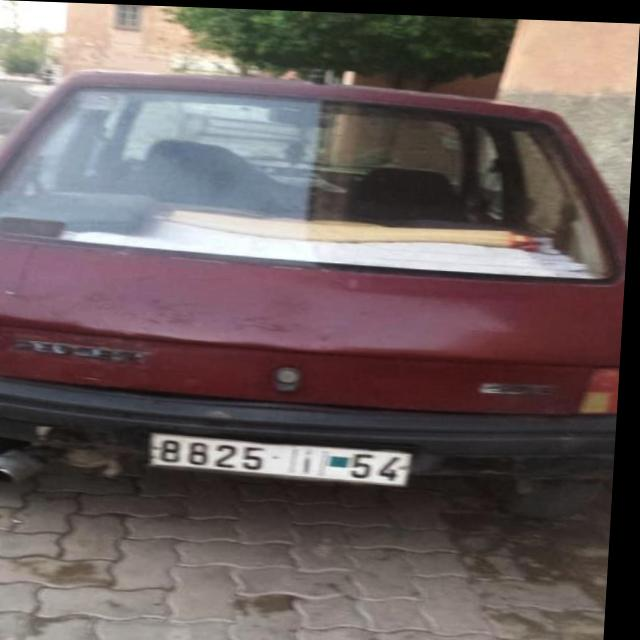License-Plate: (155, 432, 418, 483)
